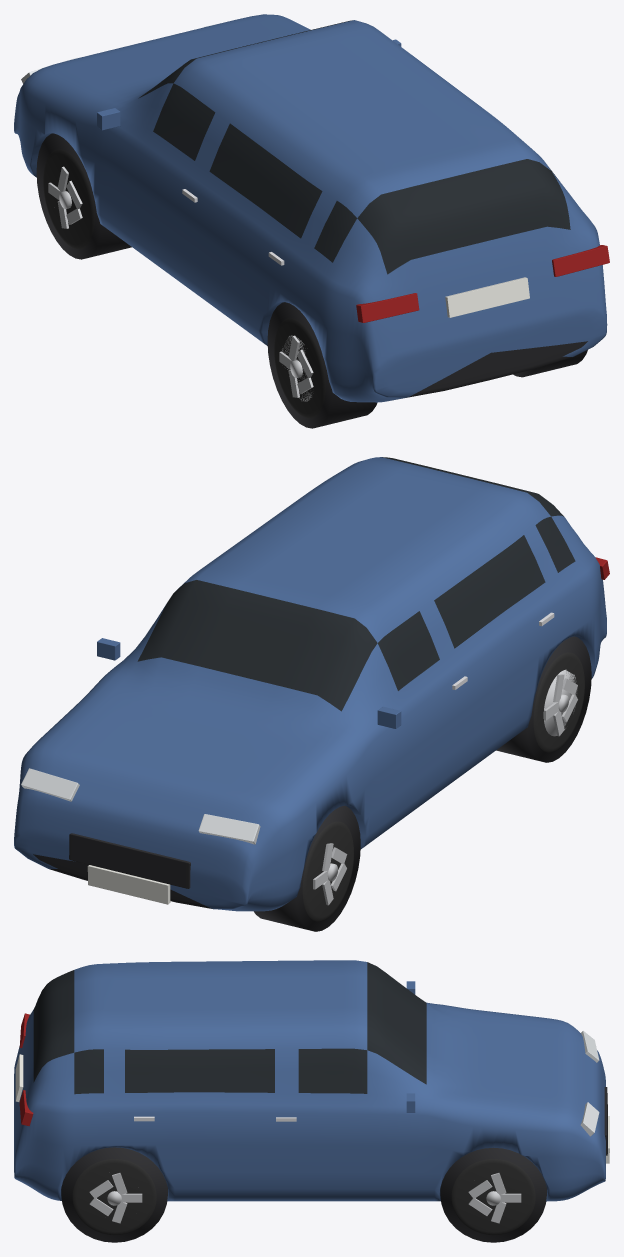
File: car_hatch.glb
3 views of the same model, one above another, from view 1: azimuth 30°, elevation 25°; view 2: azimuth 150°, elevation 25°; view 3: azimuth 270°, elevation 25° (orthographic). The views are drawn at different scales.
Parts seen in each view (by area): view 1: car_hatch; view 2: car_hatch; view 3: car_hatch.
Boxes of the visible parts, x1,y1,x2,y2 form: car_hatch: (14,14,609,428); car_hatch: (14,457,609,931); car_hatch: (14,960,609,1242).
Size of the model in its own units: 1.94 by 1.5 by 4.08.
